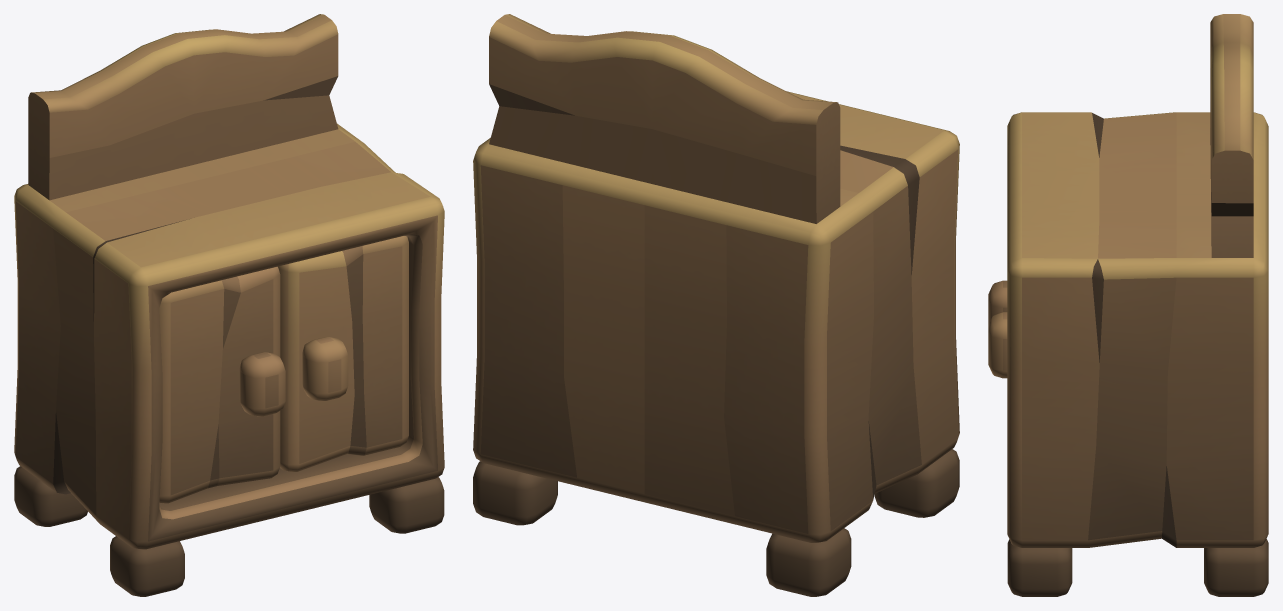
Rendered from tavern_cupboard.fbx.
3 views of the same model, side by side, from view 1: azimuth 30°, elevation 25°; view 2: azimuth 150°, elevation 25°; view 3: azimuth 270°, elevation 25° (orthographic). The views are drawn at different scales.
Parts seen in each view (by area): view 1: tavern_cupboard_LOD0; view 2: tavern_cupboard_LOD0; view 3: tavern_cupboard_LOD0.
Part boxes in pixels (<box>): tavern_cupboard_LOD0: <box>14,14,444,596</box>; tavern_cupboard_LOD0: <box>473,14,959,596</box>; tavern_cupboard_LOD0: <box>988,14,1268,596</box>.
Size of what is drawn, in the model's own units: 100 by 137 by 75.14.
